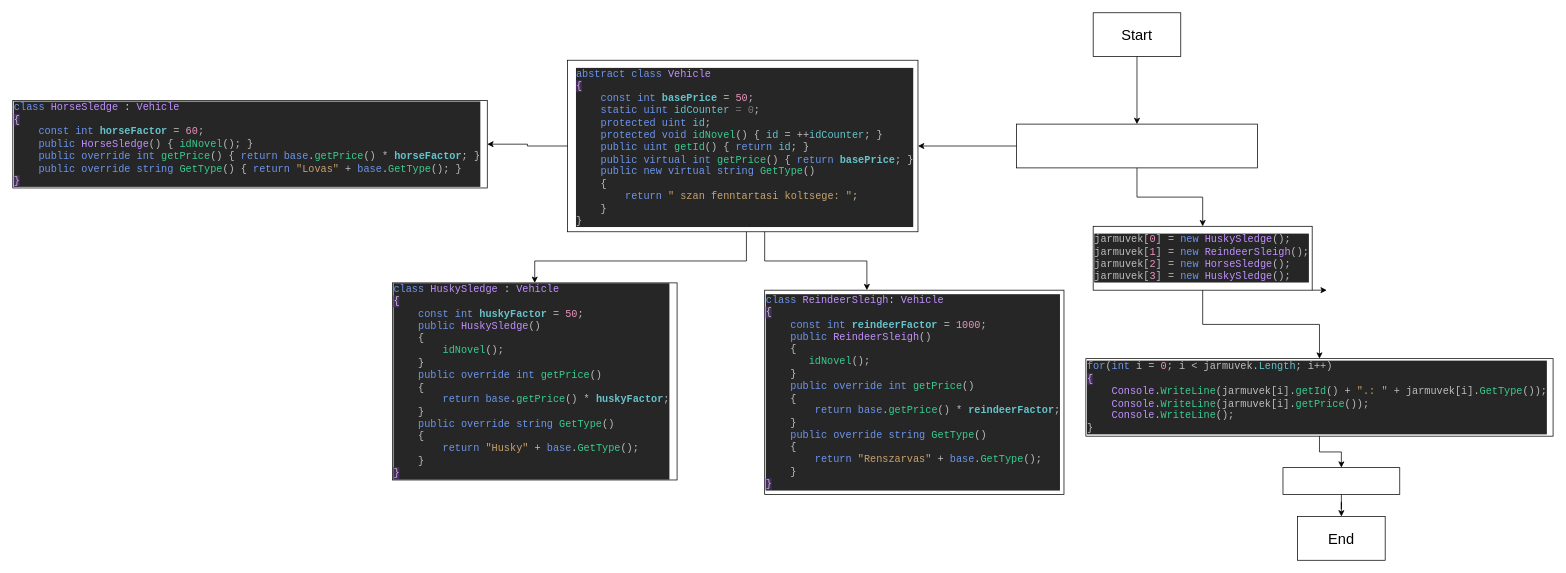
This 1566x573 diagram has some shape labels left out. The shapes that lost their labels are listed below. From the top down, each one's centre as x and y in pixels, then its label:
the point at 1136,145: Vehicle [] jarmuvek = new Vehicle [ 4 ];
the point at 1341,481: Console . ReadKey ();
